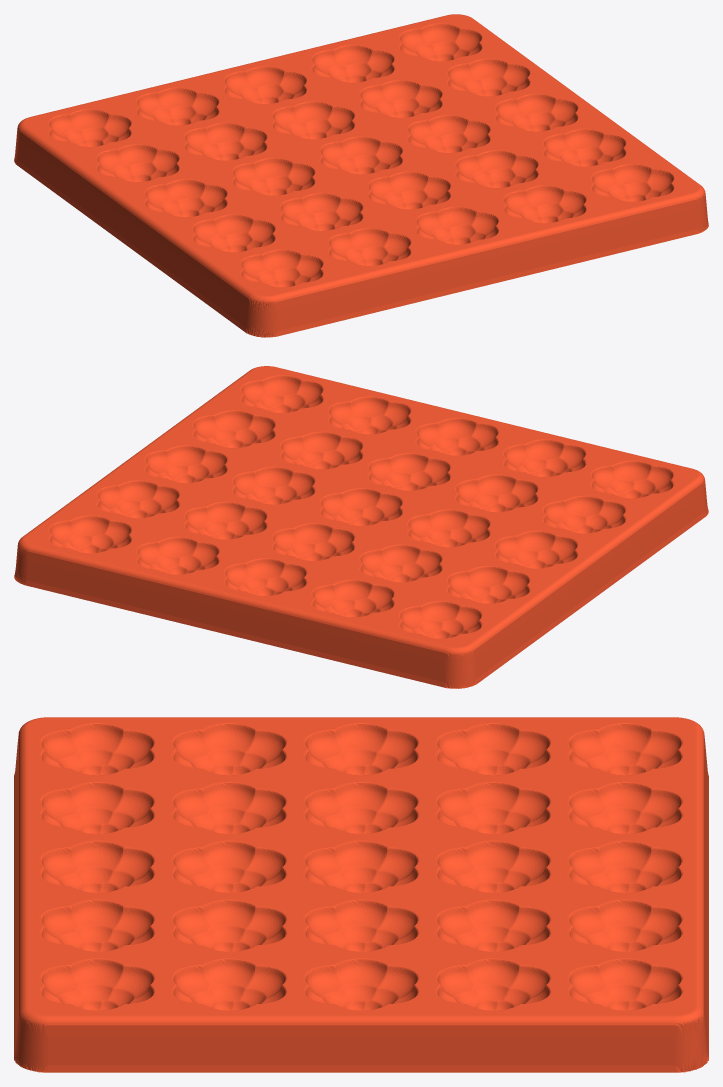
The model's file is mold.glb.
3 renders of one model, top to bottom at view 1: azimuth 30°, elevation 25°; view 2: azimuth 150°, elevation 25°; view 3: azimuth 270°, elevation 25°, orthographic. The views are drawn at different scales.
Visible parts, largest first — view 1: geometry_0; view 2: geometry_0; view 3: geometry_0.
Boxes of the visible parts, left/top/right/bottom form: geometry_0: left=14, top=14, right=708, bottom=337; geometry_0: left=14, top=366, right=708, bottom=688; geometry_0: left=14, top=717, right=708, bottom=1072.
Size of the model in its own units: 0.193 by 0.0149 by 0.1834.
